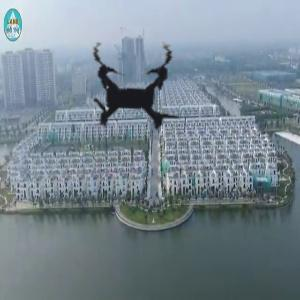drone: (43, 2, 222, 181)
